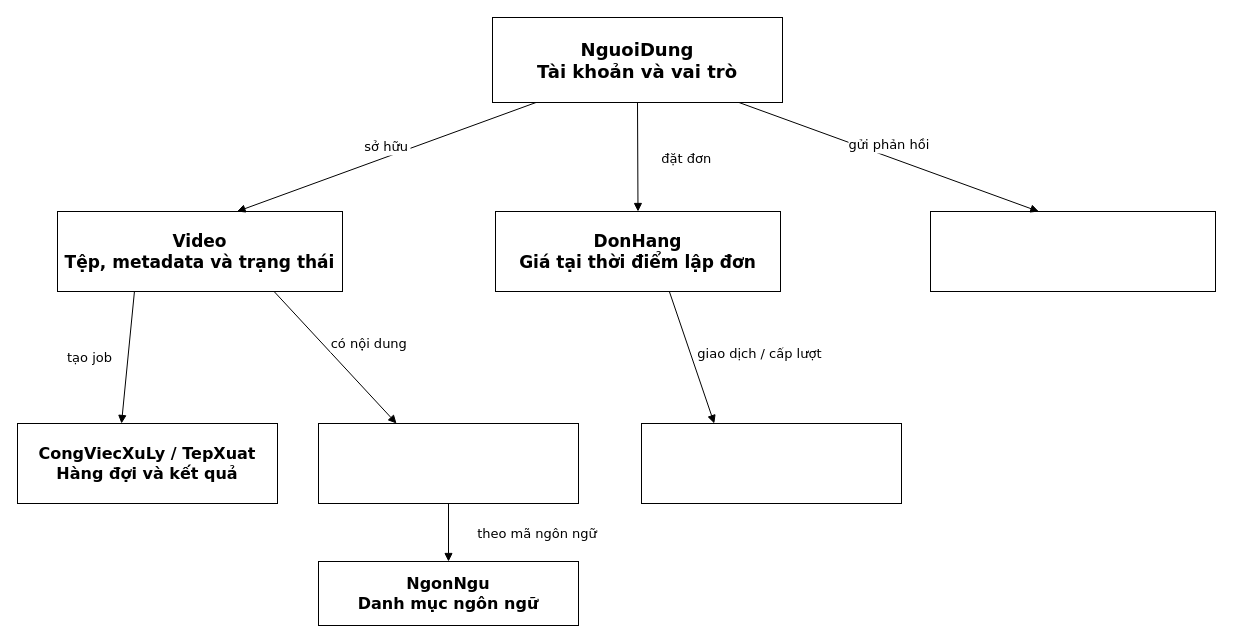
The diagram is 1233 pixels wide and 643 high, and some of its shapes have lost their labels. The shapes that lost their labels are listed below. From the top down, each one's centre as x and y in pixels, then its label:
the point at 1073,251: YeuCauHoTro Phản hồi hoặc liên hệ
the point at 448,463: NoiDungTheoNgonNgu Phụ đề, thuyết minh, phiên bản
the point at 771,463: GiaoDich / QuyenLoiGoi Thanh toán và số lượt
